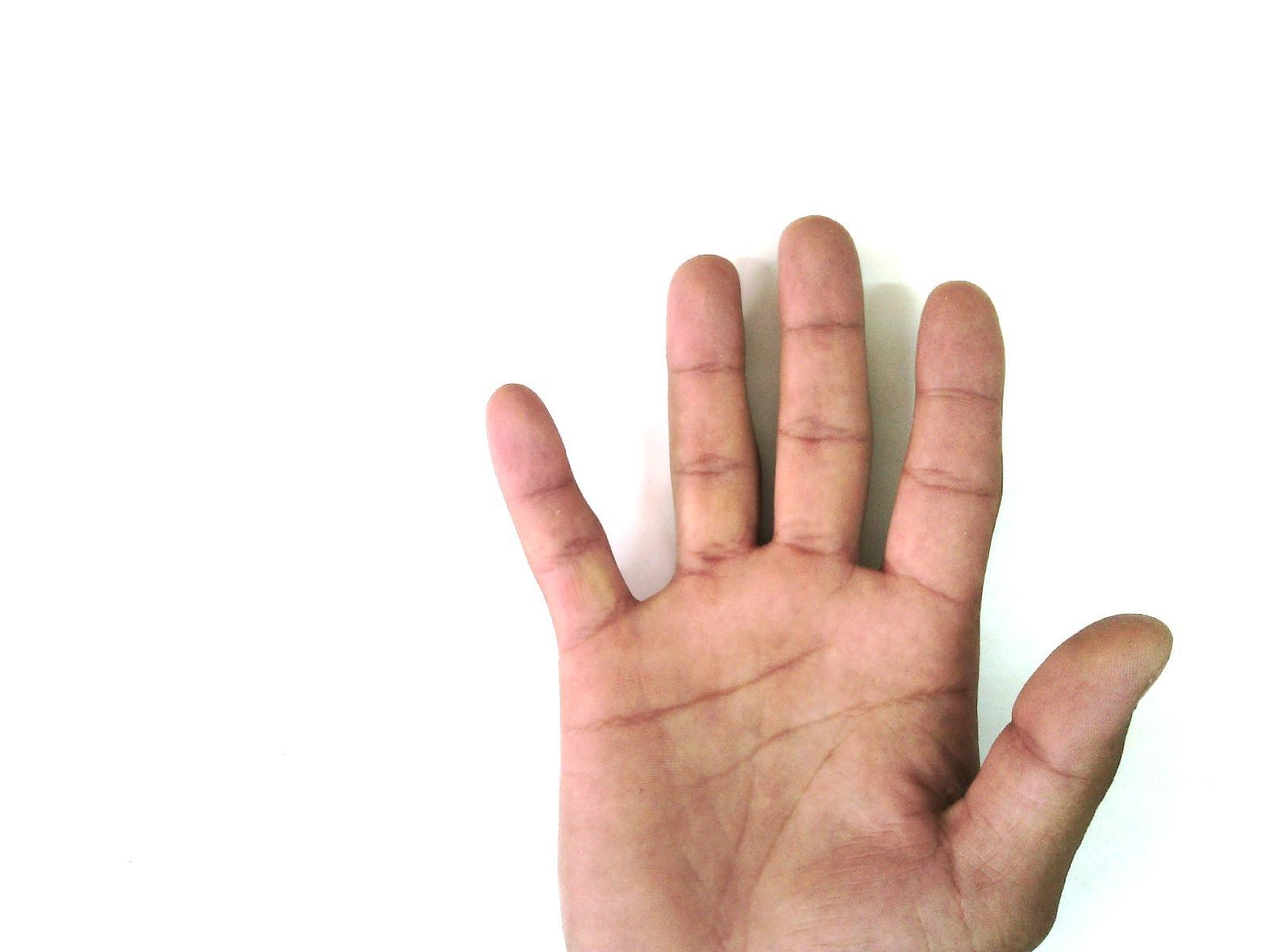open_palm: (482, 213, 1175, 951)
